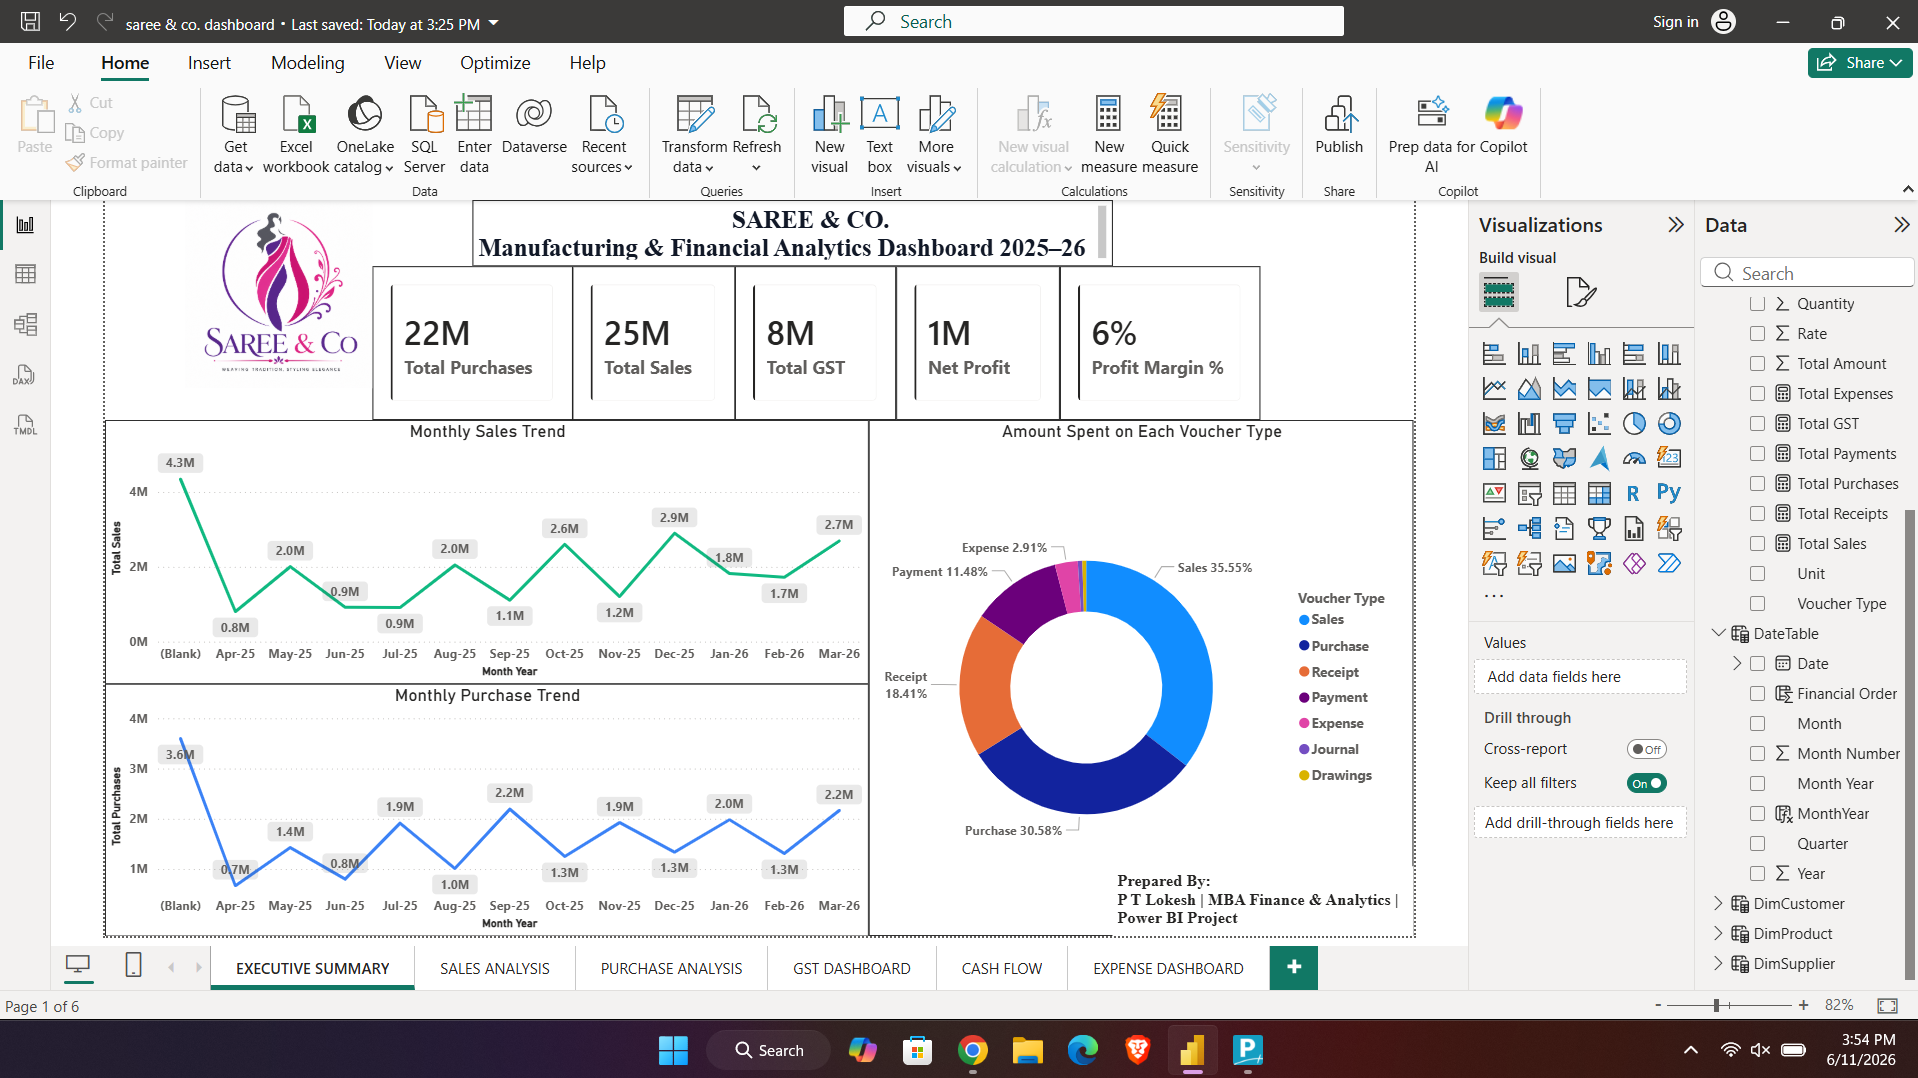

Layout of this report page (visuals, bound fields, positions):
{"tool":"powerbi","page":{"name":"EXECUTIVE SUMMARY","canvas":[1280,720],"ordinal":0},"visuals":[{"type":"cardVisual","fields":{"Data":["April25 - March26.Net Profit"]},"box":[774.1,64.8,160.2,150.4],"z":0},{"type":"cardVisual","fields":{"Data":["April25 - March26.Total Sales"]},"box":[457.3,64.8,159,150.4],"z":1000},{"type":"cardVisual","fields":{"Data":["April25 - March26.Total Purchases"]},"box":[261.7,64.8,195.7,150.4],"z":2000},{"type":"cardVisual","fields":{"Data":["April25 - March26.Total GST"]},"box":[616.3,64.8,157.7,150.4],"z":3000},{"type":"lineChart","title":"Monthly Sales Trend","fields":{"Category":["DateTable.Month Year"],"Y":["April25 - March26.Total Sales"]},"box":[0,215.2,747.2,258],"z":4000},{"type":"lineChart","title":"Monthly Purchase Trend","fields":{"Category":["DateTable.Month Year"],"Y":["April25 - March26.Total Purchases"]},"box":[0,473.2,747.2,247],"z":5000},{"type":"donutChart","title":"Amount Spent on Each Voucher Type","fields":{"Category":["April25 - March26.Voucher Type"],"Y":["Sum(April25 - March26.Amount)"]},"box":[747.2,215.2,533.2,505],"z":6000},{"type":"cardVisual","fields":{"Data":["April25 - March26.Profit Margin %"]},"box":[934.2,64.8,195.7,150.4],"z":7000},{"type":"textbox","box":[359.5,0,626.1,64.8],"z":8000},{"type":"image","box":[78.3,0,183.4,184.6],"z":9000},{"type":"textbox","box":[985.6,651.8,294.7,68.5],"z":9001}]}

Visuals, with their boxes on the page's 1280x720 design canvas (x1, y1, x2, y2). These are canvas units, not pixel positions in the 1918x1078 screenshot, which may show the page scaled, cropped or inside an application window:
cardVisual - April25 - March26.Net Profit: <bbox>774, 65, 934, 215</bbox>
cardVisual - April25 - March26.Total Sales: <bbox>457, 65, 616, 215</bbox>
cardVisual - April25 - March26.Total Purchases: <bbox>262, 65, 457, 215</bbox>
cardVisual - April25 - March26.Total GST: <bbox>616, 65, 774, 215</bbox>
"Monthly Sales Trend" lineChart: <bbox>0, 215, 747, 473</bbox>
"Monthly Purchase Trend" lineChart: <bbox>0, 473, 747, 720</bbox>
"Amount Spent on Each Voucher Type" donutChart: <bbox>747, 215, 1280, 720</bbox>
cardVisual - April25 - March26.Profit Margin %: <bbox>934, 65, 1130, 215</bbox>
textbox: <bbox>360, 0, 986, 65</bbox>
image: <bbox>78, 0, 262, 185</bbox>
textbox: <bbox>986, 652, 1280, 720</bbox>
